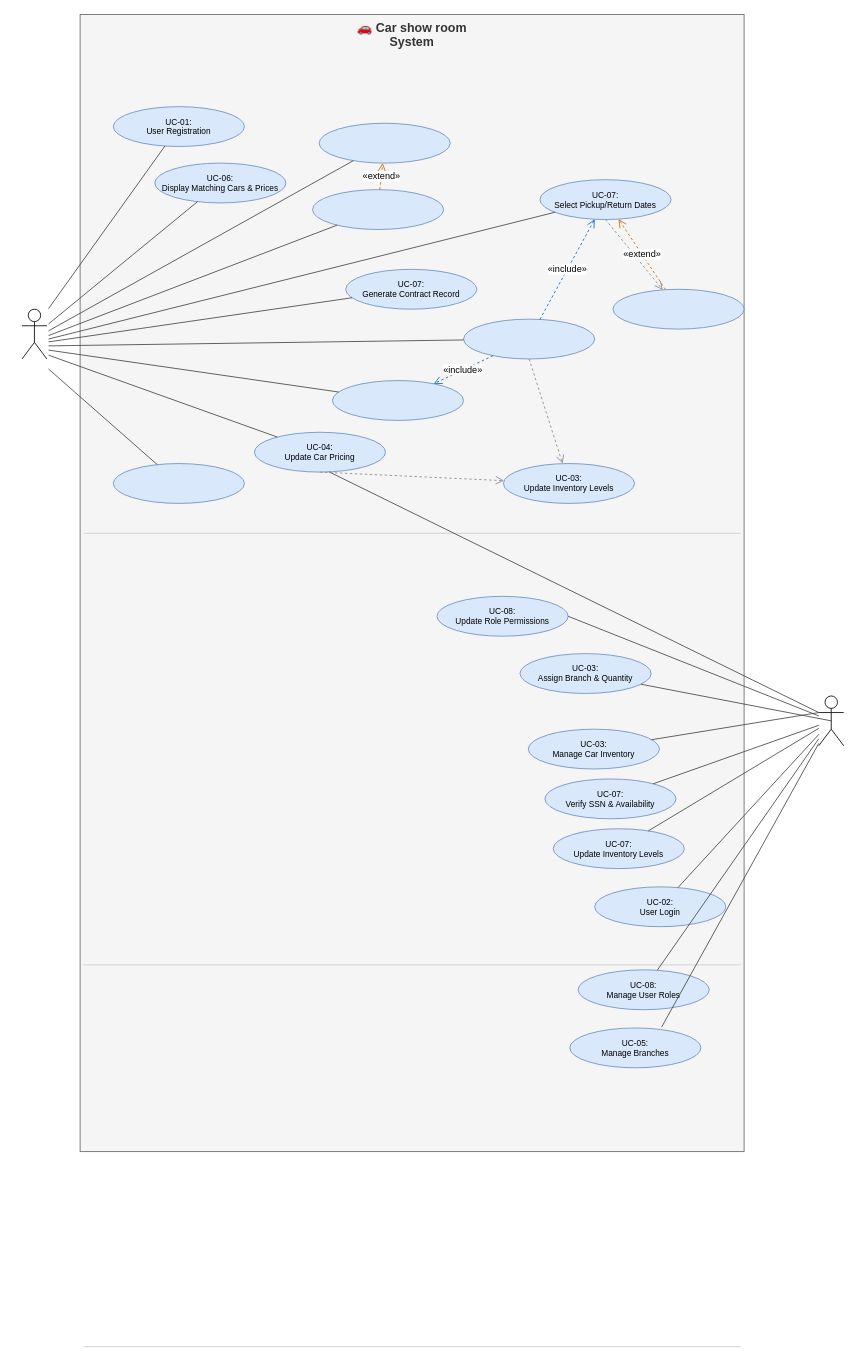
This 860x1362 diagram has some shape labels left out. Each missing label, with the box of its shape:
Admin: (818, 695, 844, 746)
customer: (21, 308, 47, 359)
UC-04: Store Price History: (112, 463, 244, 503)
UC-06: Query Inventory: (312, 189, 444, 229)
UC-06: Search & Filter Cars: (318, 122, 450, 163)
UC-07: Create Rental Contract: (463, 318, 595, 359)
UC-07: Retrieve Latest Price: (612, 288, 744, 329)
UC-07: Select Payment Method: (332, 380, 464, 420)
